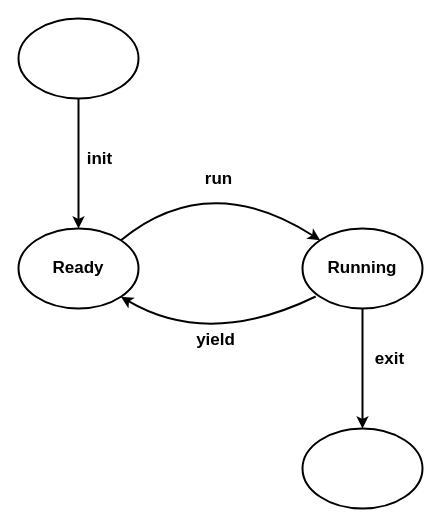
Some shapes in this 440 by 526 pixel diagram are drawn without their labels. Each missing label, with the centre of its shape:
"Exited" goes at pixel 362 468.
"Uninitialized" goes at pixel 78 58.
